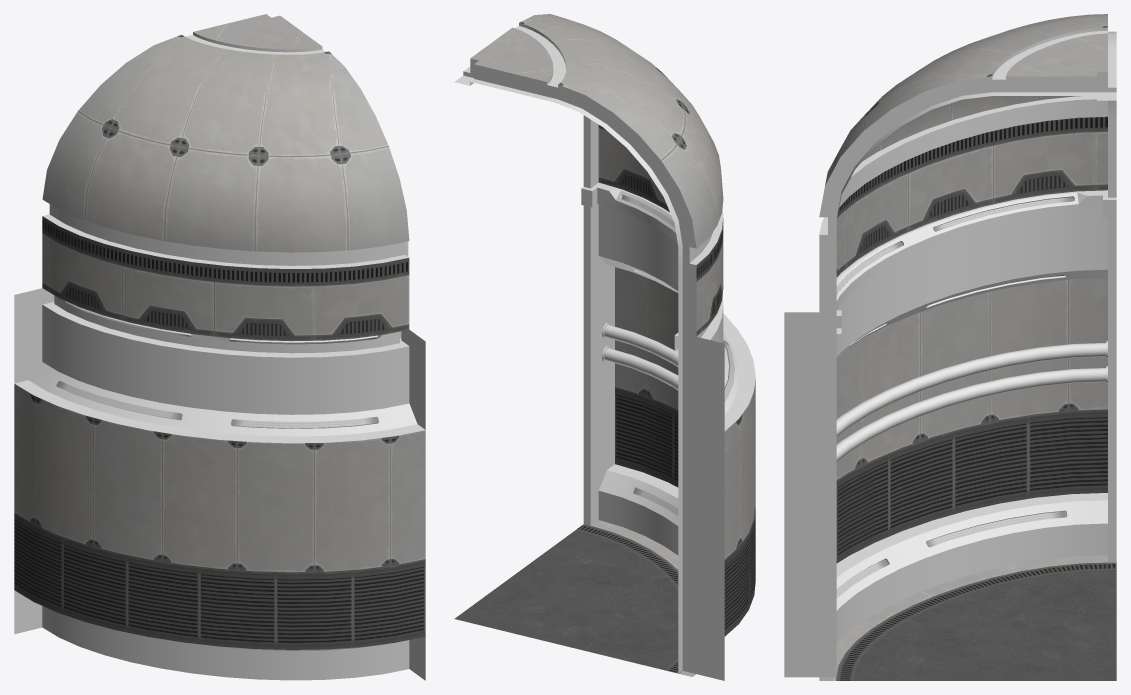
File: wall01_corner01.fbx
The picture shows the model from 3 angles, left to right: view 1: azimuth 30°, elevation 25°; view 2: azimuth 150°, elevation 25°; view 3: azimuth 270°, elevation 25°; orthographic projection. The views are drawn at different scales.
Visible parts, largest first — view 1: wall01_corner01; view 2: wall01_corner01; view 3: wall01_corner01.
Part boxes in pixels (x1,y1,x2,y2): wall01_corner01: (14,14,425,680); wall01_corner01: (454,14,755,680); wall01_corner01: (784,14,1116,680).
Bounding box in the file's own units: 190 × 379 × 190.
